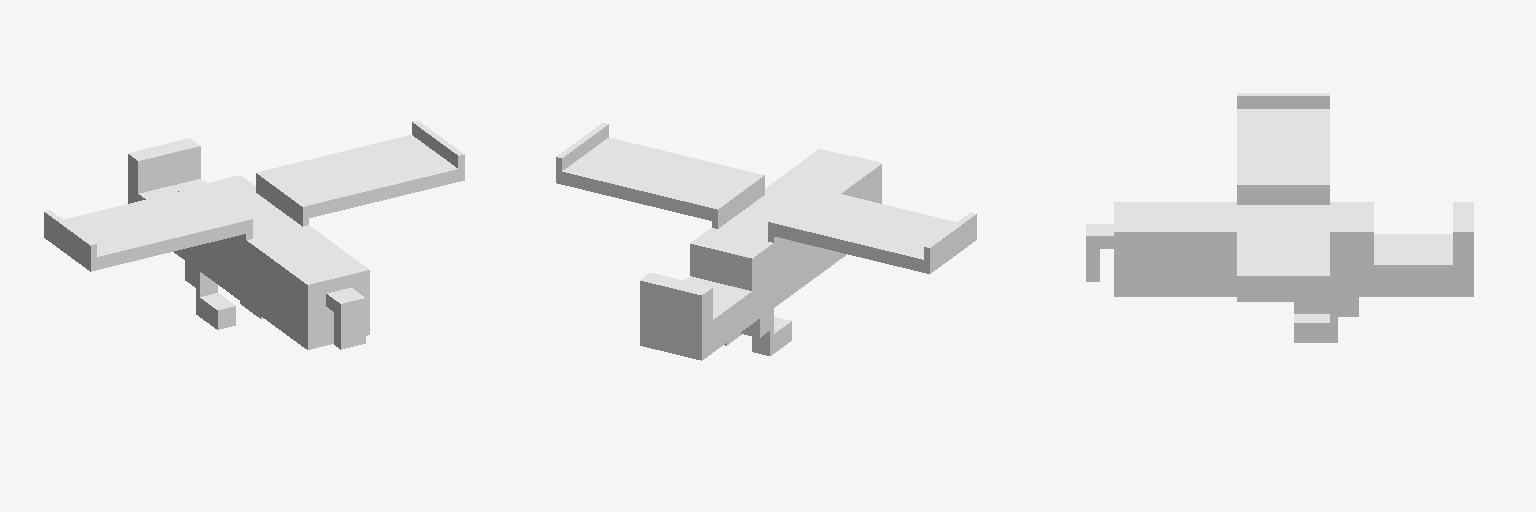
Rendered from aguila.obj.
3 renders of one model, left to right at view 1: azimuth 30°, elevation 25°; view 2: azimuth 150°, elevation 25°; view 3: azimuth 270°, elevation 25°, orthographic.
Size of the model in its own units: 60 by 22 by 54.